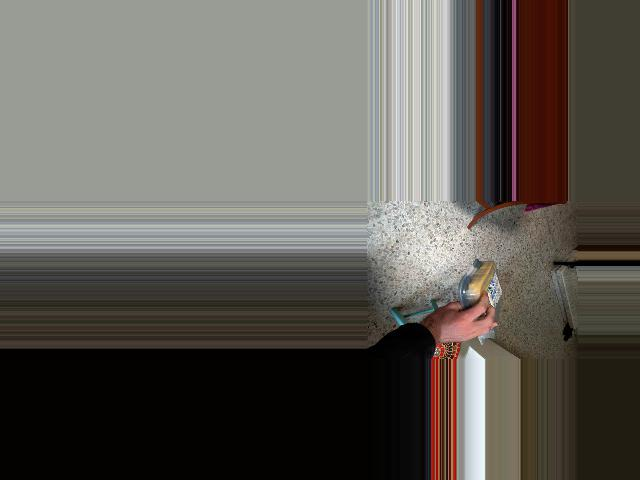cheese: (465, 259, 501, 333)
